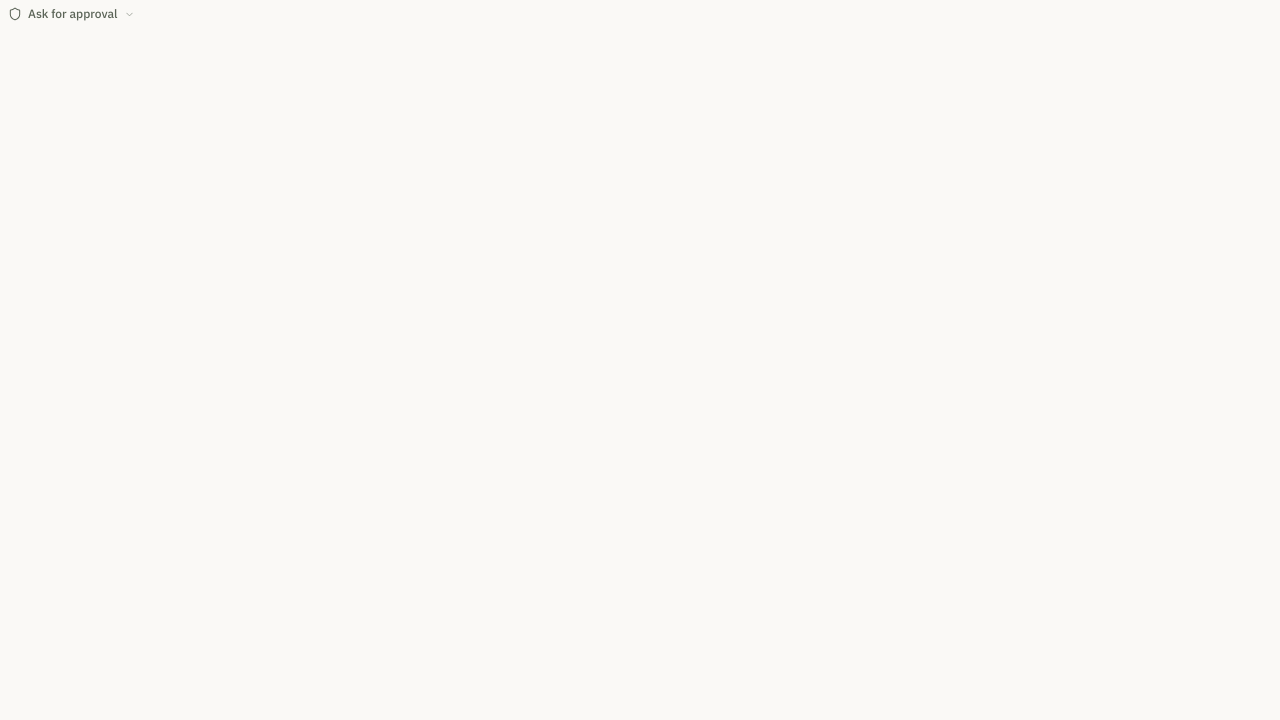
requires confirmation before Full access is sent
The image size is (1280, 720).
Step 1. Press the mouse on the button with aria-label "Permissions:" → (71, 14), box [0,0,142,28]
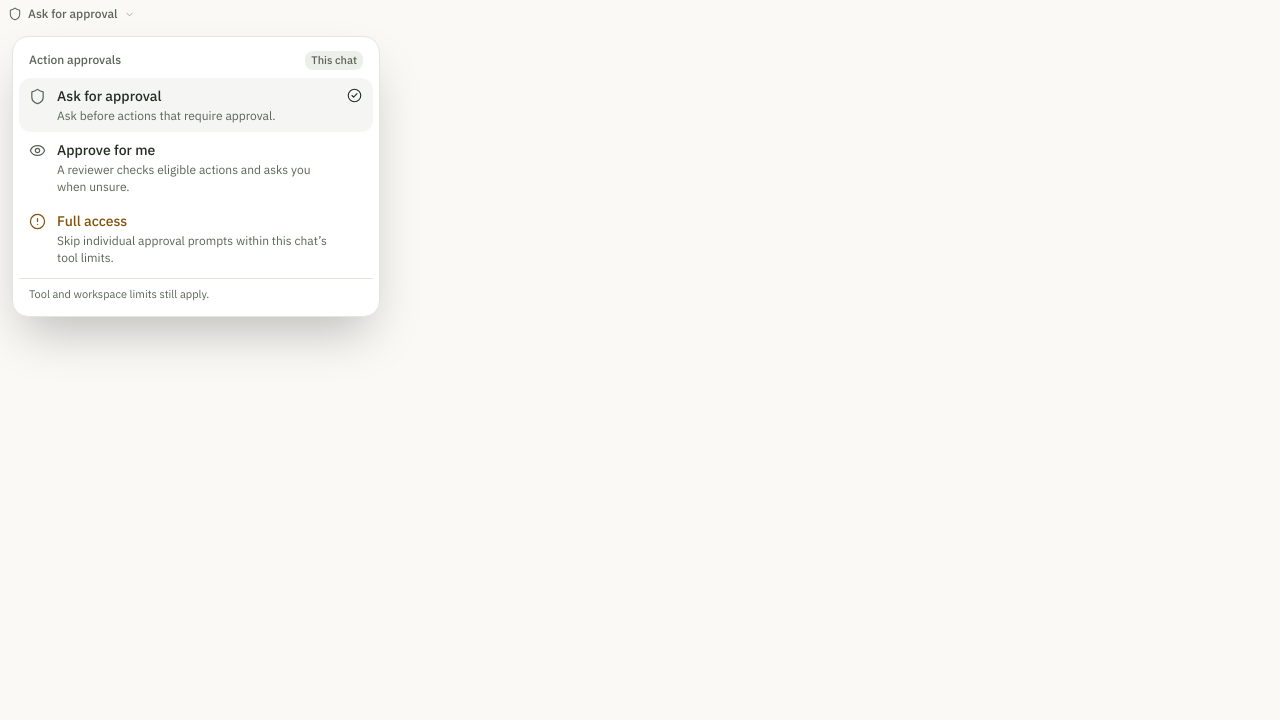
Check: the menu item "Ask for approval Ask before actions that require approval." is shown, box [19,78,373,132]
Step 2. Click the menu item "Full access" → (178, 238), box [29,212,327,265]
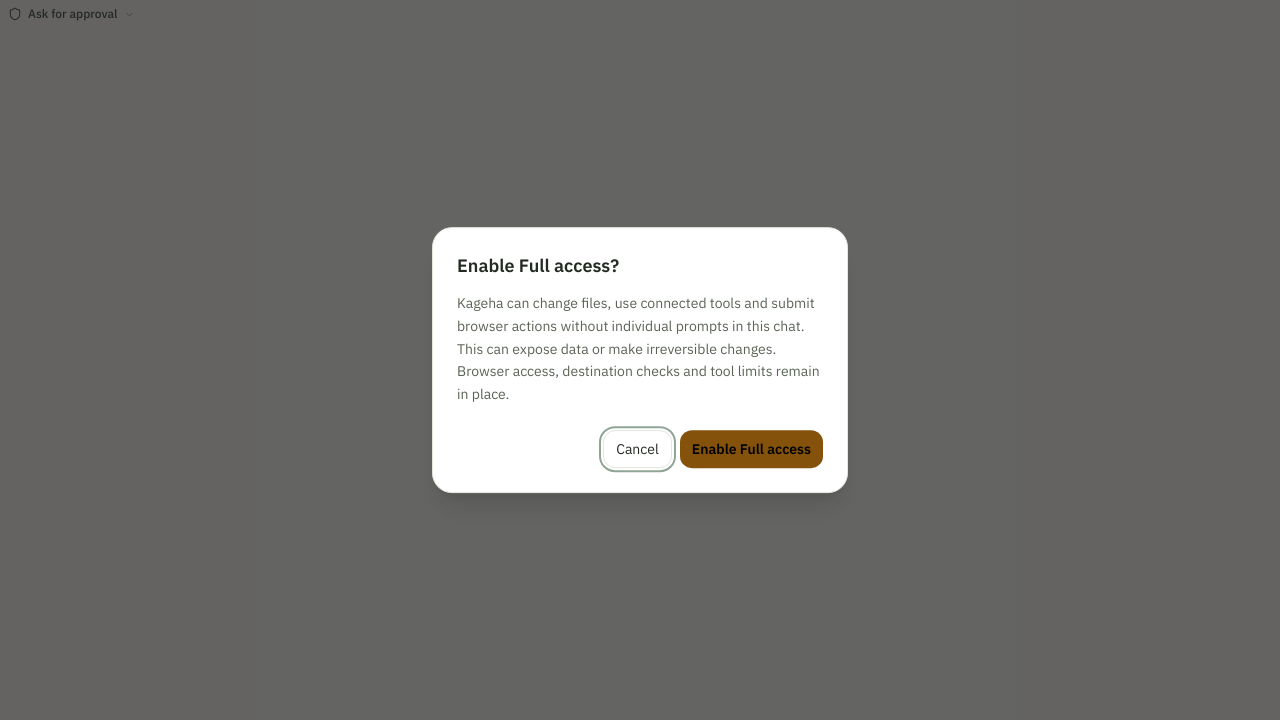
Check: the dialog is shown, box [432,227,848,493]
Step 3. Click the button "Enable Full access" → (751, 449), box [680,430,823,468]
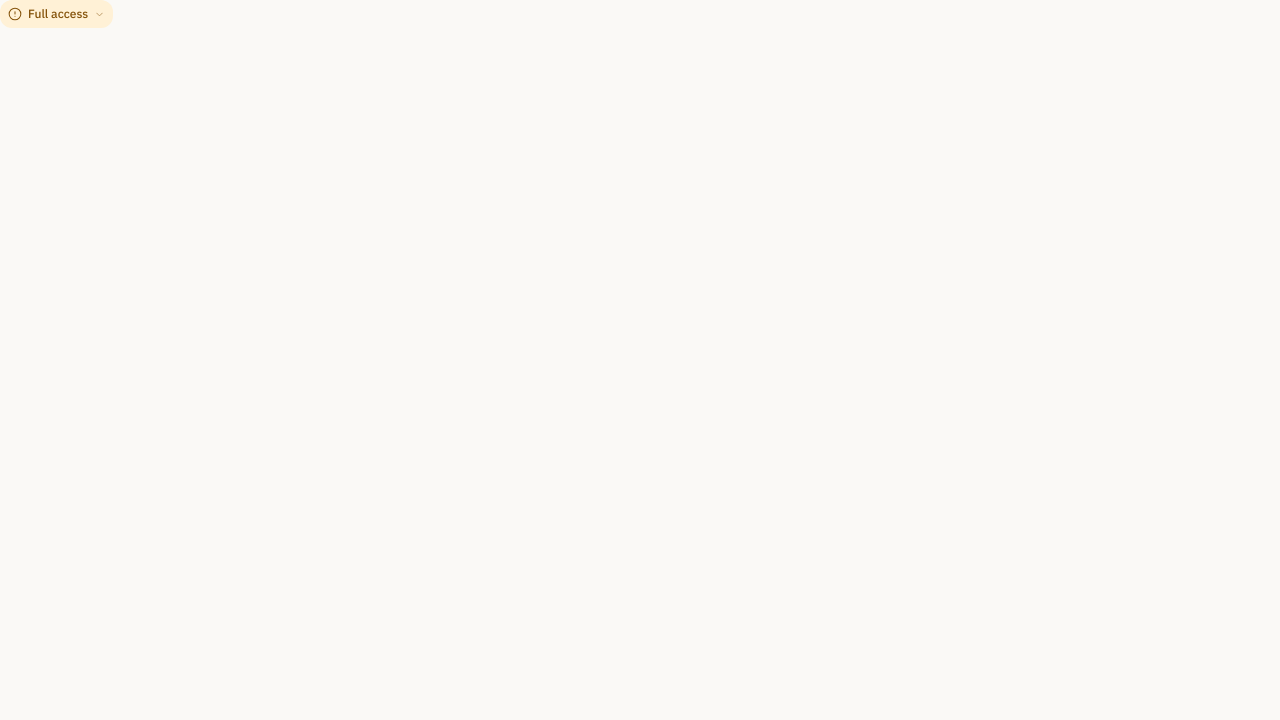
Check: the button with aria-label "Permissions: Full access" is shown, box [0,0,113,28]
